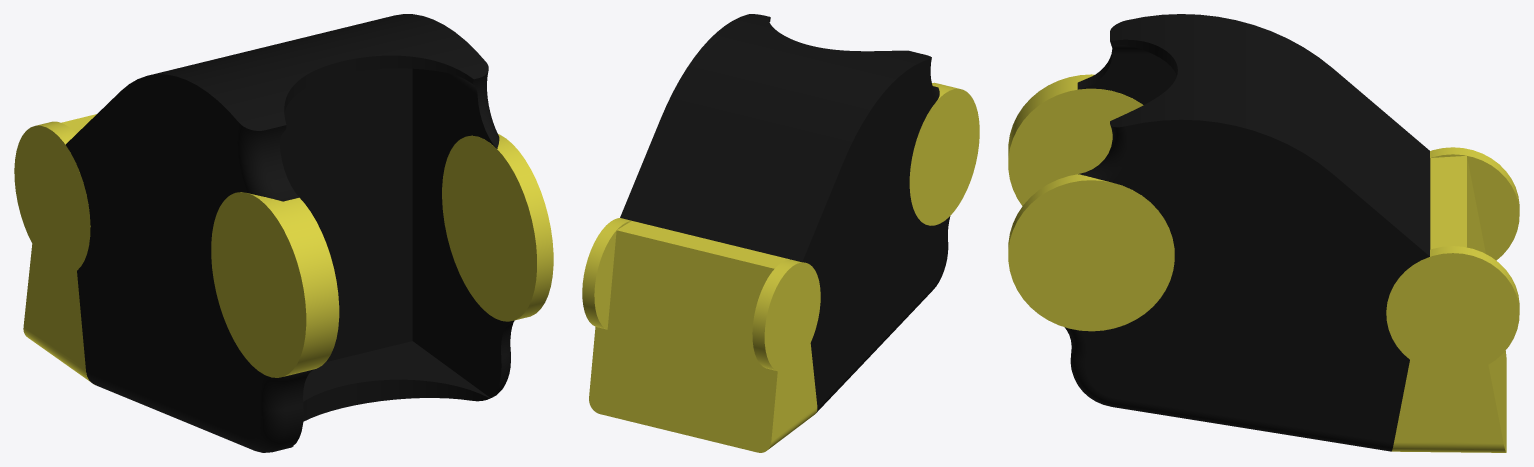
Rendered from thigh_dexter.obj.
3 renders of one model, left to right at view 1: azimuth 30°, elevation 25°; view 2: azimuth 150°, elevation 25°; view 3: azimuth 270°, elevation 25°, orthographic. The views are drawn at different scales.
Parts seen in each view (by area): view 1: Body6, Body9, Body10, Body7, Body11; view 2: Body6, Body11, Body9, Body7, Body8; view 3: Body6, Body10, Body11, Body8, Body9, Body7.
Boxes of the visible parts, left/top/right/bottom form: Body6: left=65, top=14, right=514, bottom=452; Body9: left=211, top=192, right=339, bottom=377; Body10: left=442, top=134, right=553, bottom=321; Body7: left=14, top=121, right=90, bottom=274; Body11: left=23, top=114, right=96, bottom=384; Body6: left=620, top=14, right=950, bottom=412; Body11: left=589, top=221, right=817, bottom=452; Body9: left=909, top=82, right=979, bottom=225; Body7: left=752, top=259, right=820, bottom=371; Body8: left=582, top=218, right=631, bottom=329; Body6: left=1064, top=14, right=1430, bottom=451; Body10: left=1008, top=174, right=1174, bottom=331; Body11: left=1391, top=156, right=1506, bottom=452; Body8: left=1386, top=246, right=1519, bottom=373; Body9: left=1008, top=74, right=1143, bottom=205; Body7: left=1430, top=147, right=1519, bottom=260.
Size of the model in its own units: 0.15 by 0.2241 by 0.3065.
